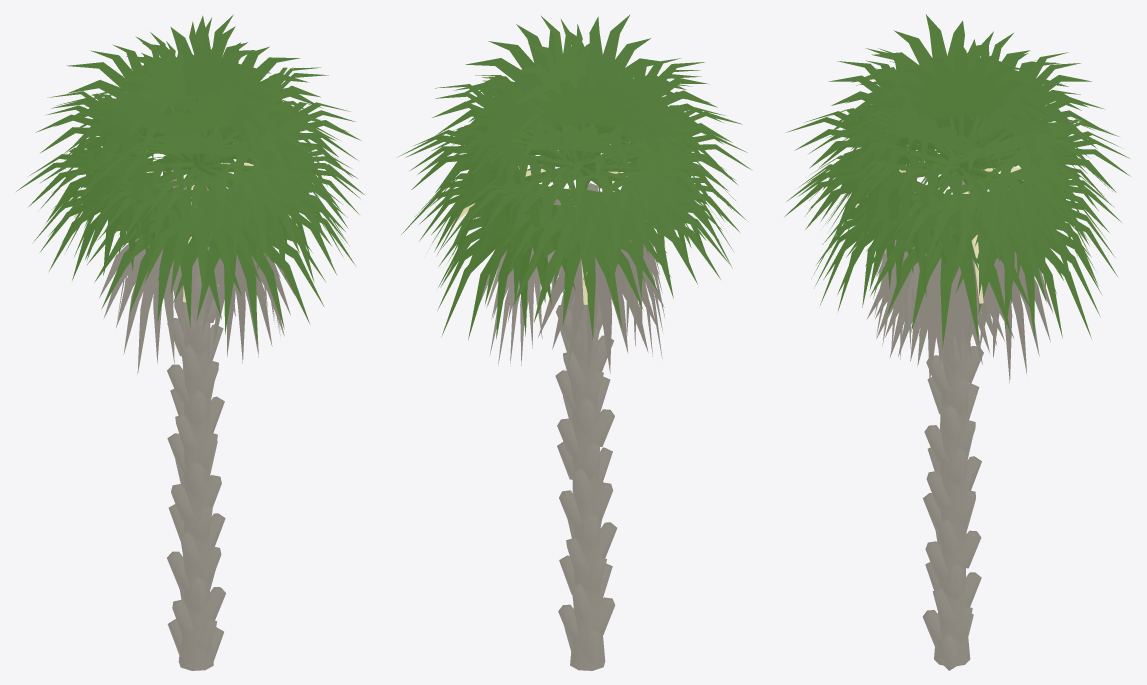
The model's file is Blender_CabbagePalm_2.glb.
3 renders of one model, left to right at view 1: azimuth 30°, elevation 25°; view 2: azimuth 150°, elevation 25°; view 3: azimuth 270°, elevation 25°, orthographic.
Visible parts, largest first — view 1: Blender_CabbagePalm_2; view 2: Blender_CabbagePalm_2; view 3: Blender_CabbagePalm_2.
Part boxes in pixels (x1,y1,x2,y2): Blender_CabbagePalm_2: (16, 14, 365, 670); Blender_CabbagePalm_2: (397, 15, 752, 670); Blender_CabbagePalm_2: (784, 14, 1130, 670).
Bounding box in the file's own units: 6.25 × 12.27 × 6.08.
